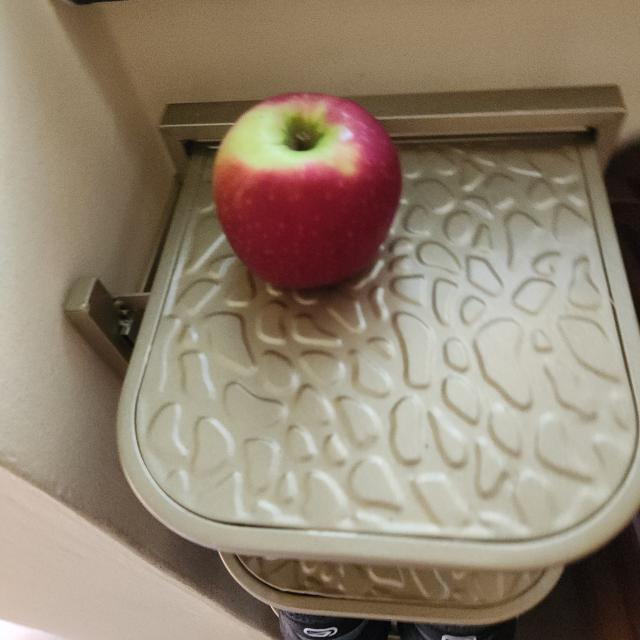apple: (205, 88, 411, 306)
